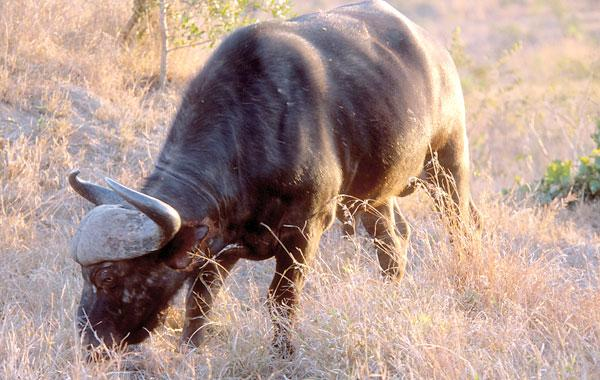Buffalo: (13, 17, 593, 373)
